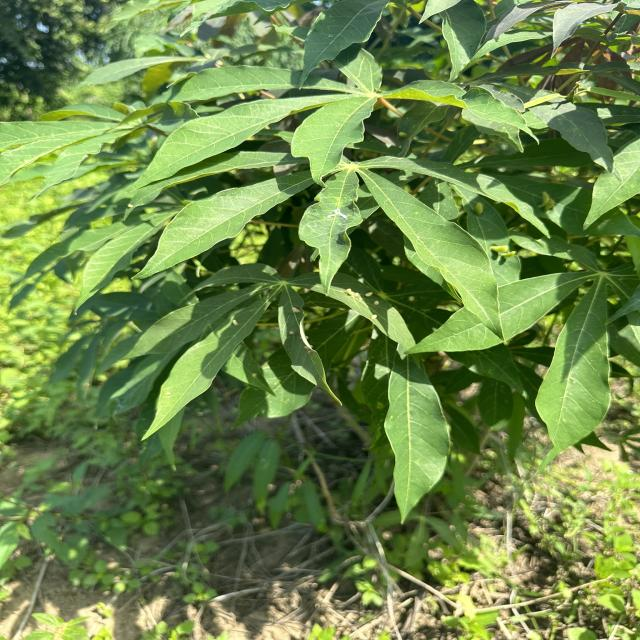Mosca: (481, 238, 541, 274), (370, 81, 403, 128), (539, 157, 582, 188), (534, 187, 565, 219), (460, 187, 479, 213), (470, 131, 494, 151)
